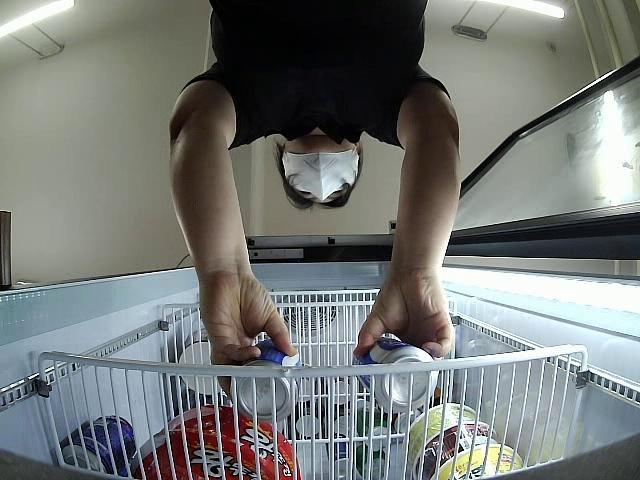13_pocariSweat: (350, 338, 437, 412), (229, 336, 302, 424)
